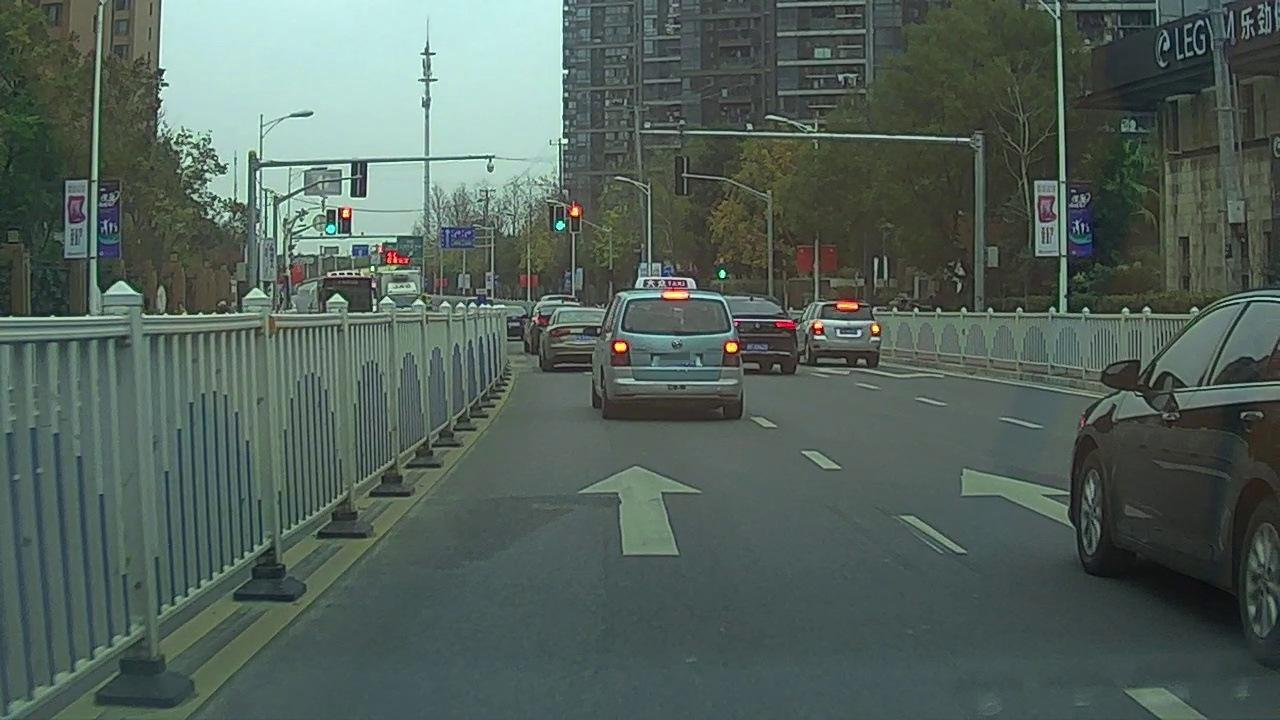traffic_light: (570, 208, 581, 231), (327, 210, 336, 235), (341, 207, 350, 232), (555, 206, 564, 230)
